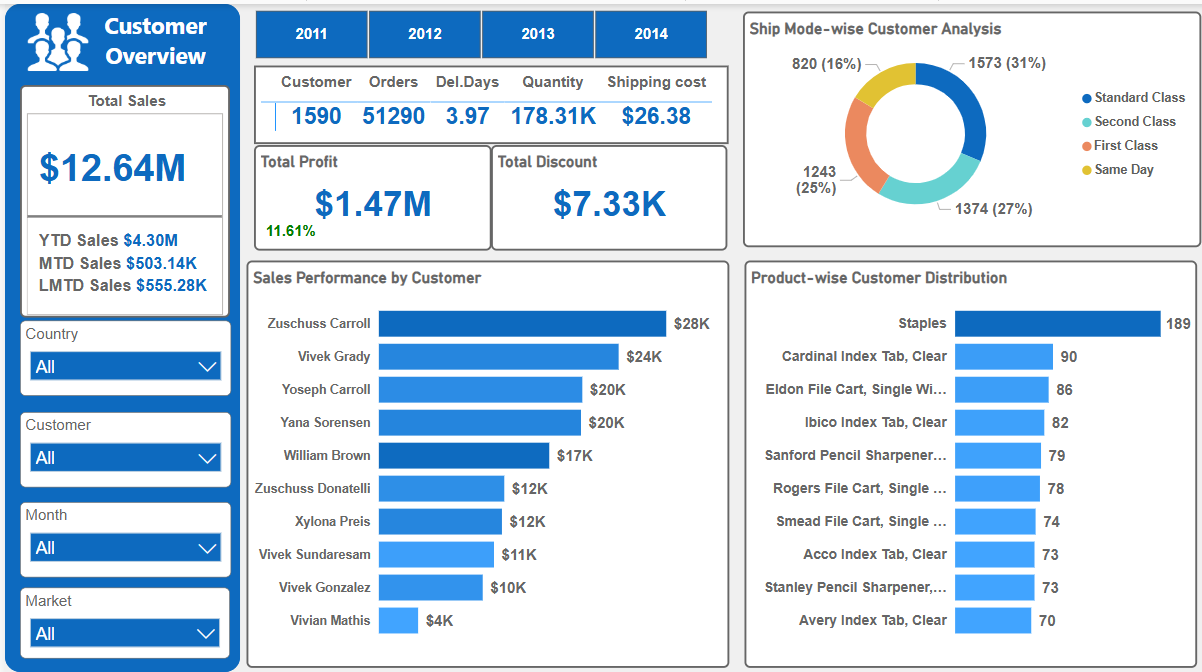

This screenshot's page, from the dashboard's own definition file:
{"tool":"powerbi","page":{"name":"Customer Overview","canvas":[1280,720],"ordinal":1},"visuals":[{"type":"shape","box":[0,0,249.4,708.7],"z":0},{"type":"cardVisual","title":"Total Sales","fields":{"Data":["Measures Table.Total Sales"]},"box":[15.6,86.5,222.5,246.6],"z":1000},{"type":"pivotTable","fields":{"Values":["Measures Table.Total Customer","Measures Table.Total Order","Measures Table.Avg Del.Days","Measures Table.Total Quantity","Measures Table.Avg shipping cost"]},"box":[263.6,65.2,503.1,83.6],"z":2000},{"type":"card","title":"Total Profit","fields":{"Values":["Measures Table.Total Profit"]},"box":[263.6,148.8,252.3,112],"z":3000},{"type":"card","fields":{"Values":["Measures Table.Profit Margin%"]},"box":[262.2,223.9,80.8,34],"z":4000},{"type":"card","title":"Total Discount","fields":{"Values":["Measures Table.Total Discount"]},"box":[515.9,148.8,250.9,112],"z":5000},{"type":"slicer","fields":{"Values":["Calendar Table.Year"]},"box":[240,0,528,64],"z":6000},{"type":"slicer","title":"Month","fields":{"Values":["Calendar Table.Month"]},"box":[16,528,224,80],"z":7000},{"type":"slicer","title":"Country","fields":{"Values":["Power BI Assignment - Power BI Dashboard (1).Country"]},"box":[16,336,224,80],"z":8000},{"type":"slicer","title":"Customer ","fields":{"Values":["Power BI Assignment - Power BI Dashboard (1).Customer Name"]},"box":[16,432,224,80],"z":9000},{"type":"slicer","title":"Market","fields":{"Values":["Power BI Assignment - Power BI Dashboard (1).Market"]},"box":[15.6,618,222.5,75.1],"z":10000},{"type":"image","box":[16,0,80,80],"z":11000},{"type":"barChart","title":"Sales Performance by Customer","fields":{"Category":["Power BI Assignment - Power BI Dashboard (1).Customer Name"],"Y":["Measures Table.Total Sales"]},"box":[256,272,512,432],"z":12000},{"type":"barChart","title":"Product-wise Customer Distribution","fields":{"Category":["Power BI Assignment - Power BI Dashboard (1).Product Name"],"Y":["Measures Table.Total Customer"]},"box":[784,272,480,432],"z":13000},{"type":"donutChart","title":"Ship Mode-wise Customer Analysis","fields":{"Category":["Power BI Assignment - Power BI Dashboard (1).Ship Mode"],"Y":["Measures Table.Total Customer"]},"box":[782.9,8.6,485.7,250],"z":14000},{"type":"textbox","box":[80,0,160,80],"z":15000}]}

Visuals, with their boxes in screenshot pixels (x1, y1, x2, y2), scaled from the page's 1280x720 canvas onto the 1202x672 screenshot:
shape: left=0, top=0, right=234, bottom=661
"Total Sales" cardVisual: left=15, top=81, right=224, bottom=311
pivotTable - Measures Table.Total Customer x Measures Table.Total Order: left=248, top=61, right=720, bottom=139
"Total Profit" card: left=248, top=139, right=484, bottom=243
card - Measures Table.Profit Margin%: left=246, top=209, right=322, bottom=241
"Total Discount" card: left=484, top=139, right=720, bottom=243
slicer - Calendar Table.Year: left=225, top=0, right=721, bottom=60
"Month" slicer: left=15, top=493, right=225, bottom=567
"Country" slicer: left=15, top=314, right=225, bottom=388
"Customer " slicer: left=15, top=403, right=225, bottom=478
"Market" slicer: left=15, top=577, right=224, bottom=647
image: left=15, top=0, right=90, bottom=75
"Sales Performance by Customer" barChart: left=240, top=254, right=721, bottom=657
"Product-wise Customer Distribution" barChart: left=736, top=254, right=1187, bottom=657
"Ship Mode-wise Customer Analysis" donutChart: left=735, top=8, right=1191, bottom=241
textbox: left=75, top=0, right=225, bottom=75
